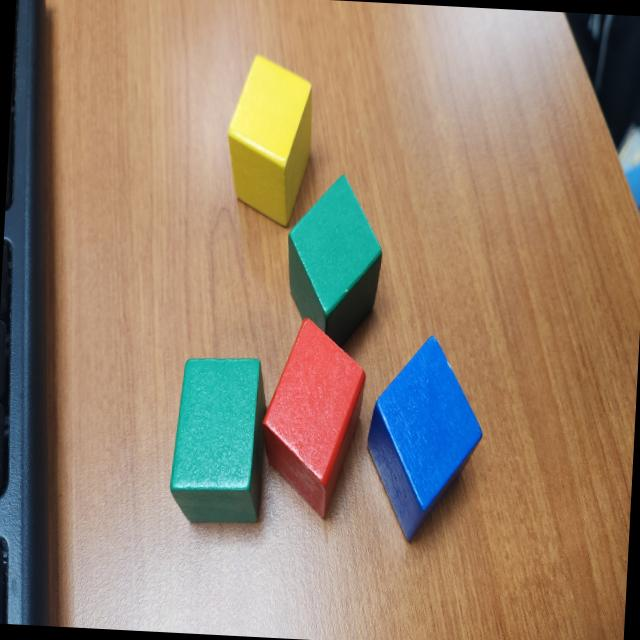blue: (361, 334, 489, 546)
green: (281, 172, 387, 354), (168, 355, 268, 530)
red: (253, 317, 369, 523)
yellow: (223, 54, 316, 230)
